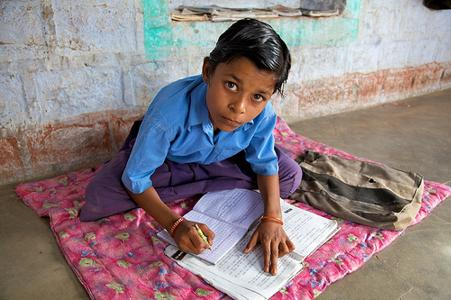person: (89, 17, 304, 276)
